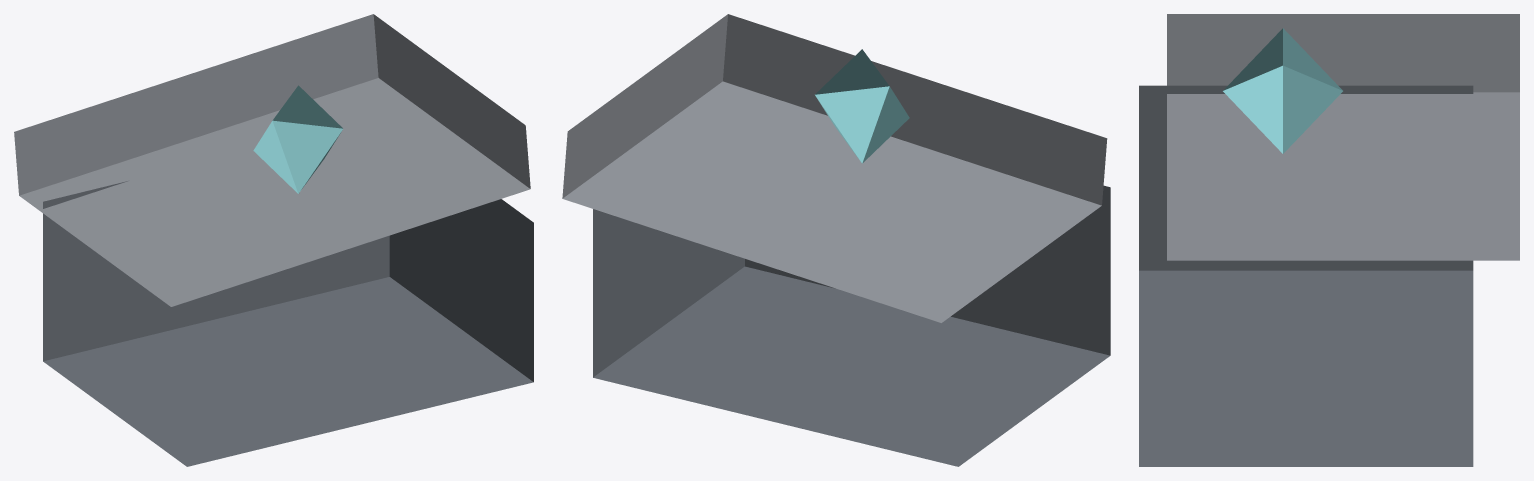
The model's file is death_box.glb.
3 views of the same model, side by side, from view 1: azimuth 30°, elevation 25°; view 2: azimuth 150°, elevation 25°; view 3: azimuth 270°, elevation 25° (orthographic). The views are drawn at different scales.
Visible parts, largest first — view 1: death_box; view 2: death_box; view 3: death_box.
Part boxes in pixels (x1,y1,x2,y2): death_box: (14, 14, 533, 466); death_box: (562, 14, 1110, 466); death_box: (1139, 14, 1519, 466).
Bounding box in the file's own units: 1.05 × 0.81 × 0.82.
